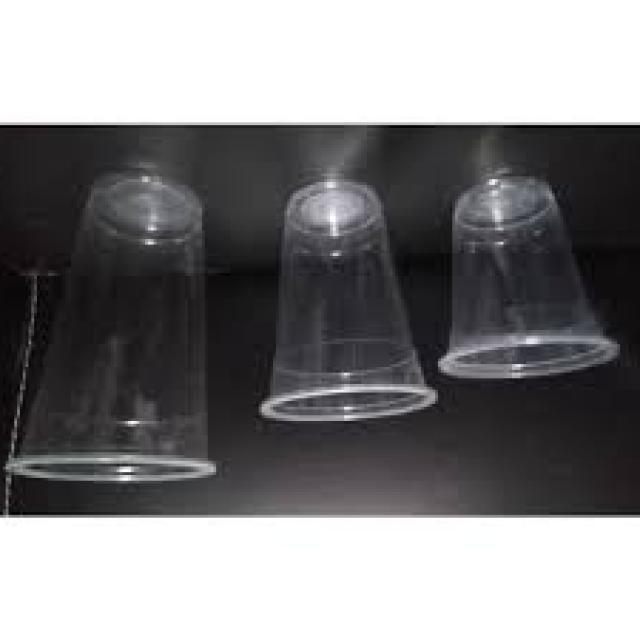plastic: (9, 173, 212, 480), (261, 181, 436, 421), (440, 177, 619, 379)
